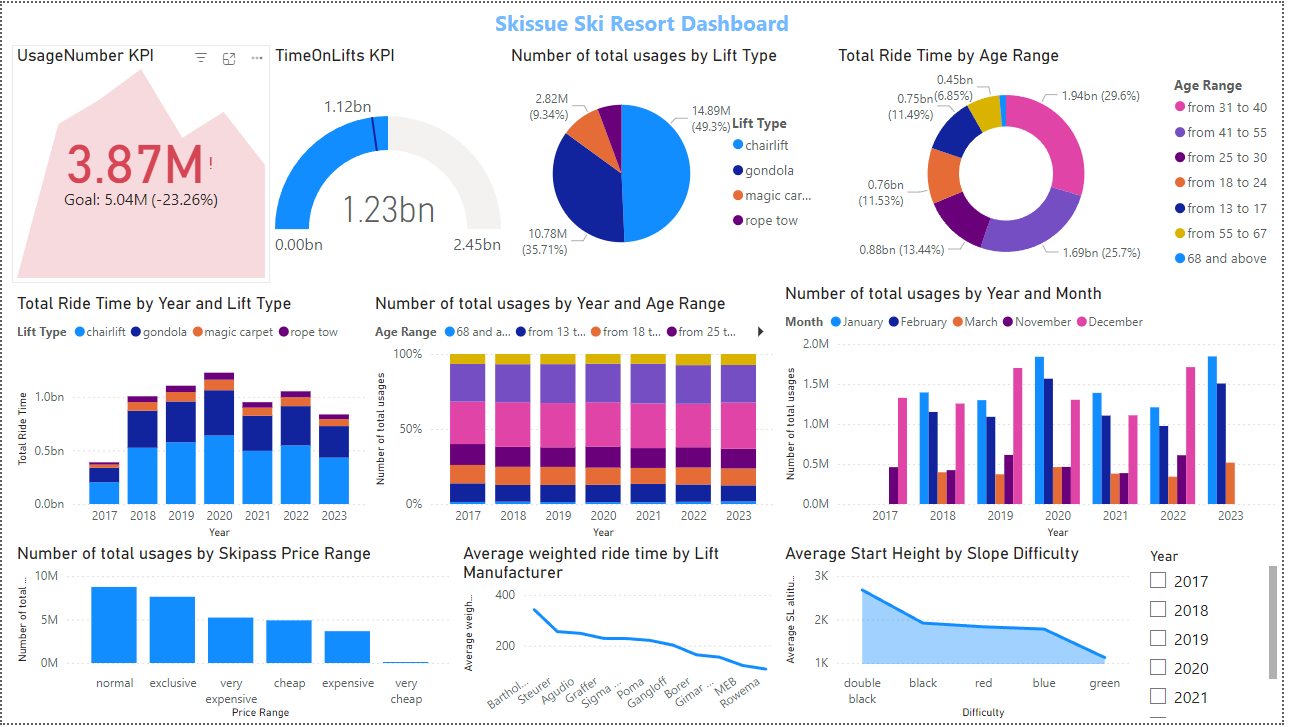

The page's visual inventory and layout, read from the dashboard file:
{"tool":"powerbi","page":{"name":"Page 1","canvas":[1280,720],"ordinal":0},"visuals":[{"type":"kpi","title":"UsageNumber KPI","fields":{"TrendLine":["Date.Year"],"Indicator":["Ski Lift Usage.___UsageNumber Value"],"Goal":["Ski Lift Usage.UsageNumber Goal"]},"box":[9.7,41.8,258.7,238.3],"z":0},{"type":"gauge","title":"TimeOnLifts KPI","fields":{"TargetValue":["Ski Lift Usage.TimeOnLifts Goal"],"Y":["Ski Lift Usage.___TimeOnLifts Value"]},"box":[268.4,41.8,235.4,238.3],"z":1000},{"type":"columnChart","fields":{"Y":["Ski Lift Usage.Total Ride Time"],"Category":["Date.Year"],"Series":["Ski Lift.Lift Type"]},"box":[9.7,289.8,357.9,250],"z":2000},{"type":"hundredPercentStackedColumnChart","fields":{"Category":["Date.Year"],"Series":["Customers.Age Range"],"Y":["Ski Lift Usage.Number of total usages"]},"box":[367.7,289.8,410.5,250],"z":3000},{"type":"pieChart","fields":{"Y":["Ski Lift Usage.Number of total usages"],"Category":["Ski Lift.Lift Type"]},"box":[503.8,41.8,326.8,238.3],"z":4000},{"type":"donutChart","fields":{"Y":["Ski Lift Usage.Total Ride Time"],"Category":["Customers.Age Range"]},"box":[830.6,41.8,449.4,238.3],"z":5000},{"type":"clusteredColumnChart","fields":{"Y":["Ski Lift Usage.Number of total usages"],"Category":["Date.Year"],"Series":["Date.Month"]},"box":[778.1,280.1,501.9,259.7],"z":6000},{"type":"columnChart","title":"Number of total usages by Skipass Price Range","fields":{"Category":["Ski Pass.Price Range"],"Y":["Ski Lift Usage.Number of total usages"]},"box":[9.7,539.8,446.4,179.9],"z":7000},{"type":"textbox","box":[434.8,0,410.5,41.8],"z":8000},{"type":"lineChart","fields":{"Y":["Measures.Average weighted ride time"],"Category":["Ski Lift.Lift Manufacturer"]},"box":[456,540,322,180],"z":9000},{"type":"areaChart","title":"Average Start Height by Slope Difficulty","fields":{"Y":["Measures.Average SL altitude"],"Category":["Ski Slope.Difficulty"]},"box":[778.1,539.8,357,179.9],"z":10000},{"type":"slicer","fields":{"Values":["Date.Year"]},"box":[1135.1,539.8,144.9,179.9],"z":10001}]}

Visuals, with their boxes in screenshot pixels (x1, y1, x2, y2), scaled from the page's 1280x720 canvas onto the 1289x727 screenshot:
"UsageNumber KPI" kpi: Rect(10, 42, 270, 283)
"TimeOnLifts KPI" gauge: Rect(270, 42, 507, 283)
columnChart - Ski Lift Usage.Total Ride Time x Date.Year: Rect(10, 293, 370, 545)
hundredPercentStackedColumnChart - Date.Year x Customers.Age Range: Rect(370, 293, 784, 545)
pieChart - Ski Lift Usage.Number of total usages x Ski Lift.Lift Type: Rect(507, 42, 836, 283)
donutChart - Ski Lift Usage.Total Ride Time x Customers.Age Range: Rect(836, 42, 1288, 283)
clusteredColumnChart - Ski Lift Usage.Number of total usages x Date.Year: Rect(784, 283, 1288, 545)
"Number of total usages by Skipass Price Range" columnChart: Rect(10, 545, 459, 726)
textbox: Rect(438, 0, 851, 42)
lineChart - Measures.Average weighted ride time x Ski Lift.Lift Manufacturer: Rect(459, 545, 783, 726)
"Average Start Height by Slope Difficulty" areaChart: Rect(784, 545, 1143, 726)
slicer - Date.Year: Rect(1143, 545, 1288, 726)
